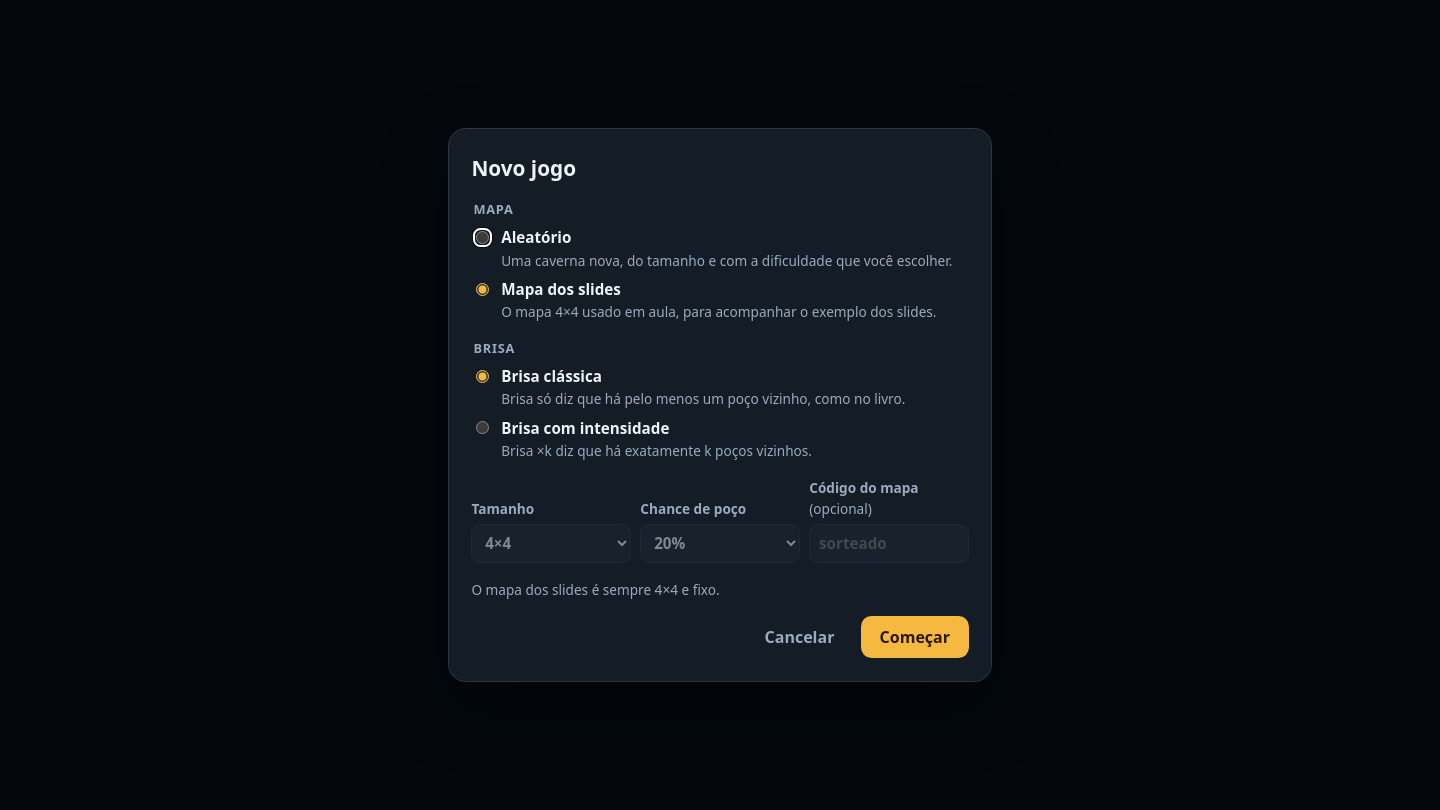
NewGameDialog › rejects an invalid seed without submitting
Step 1. Click the radio button labelled "Aleatório" → (483, 237), box x1=476 y1=231 x2=489 y2=244
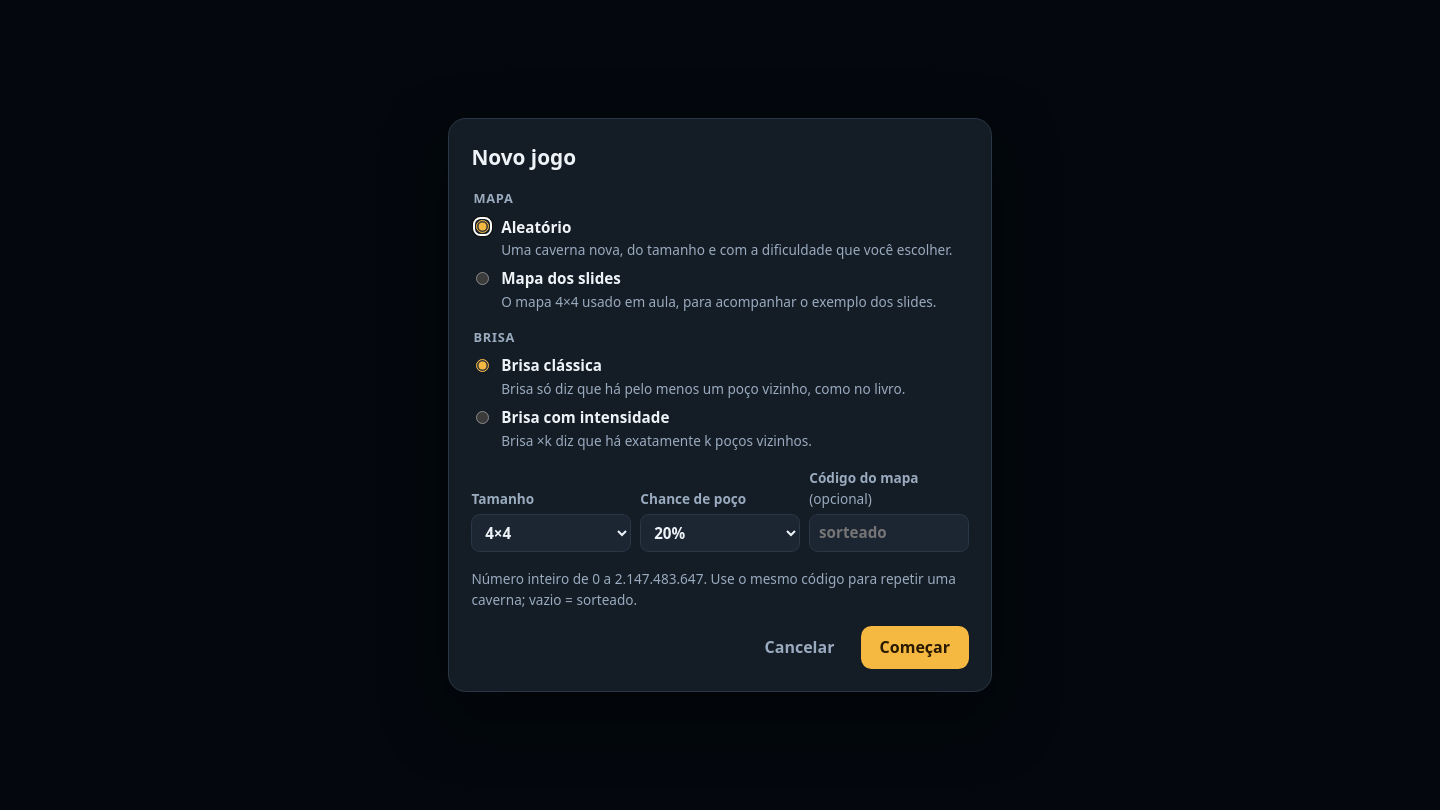
Step 2. Type "-3" into the field labelled "Código do mapa (opcional)" → (889, 533), box x1=809 y1=514 x2=969 y2=552
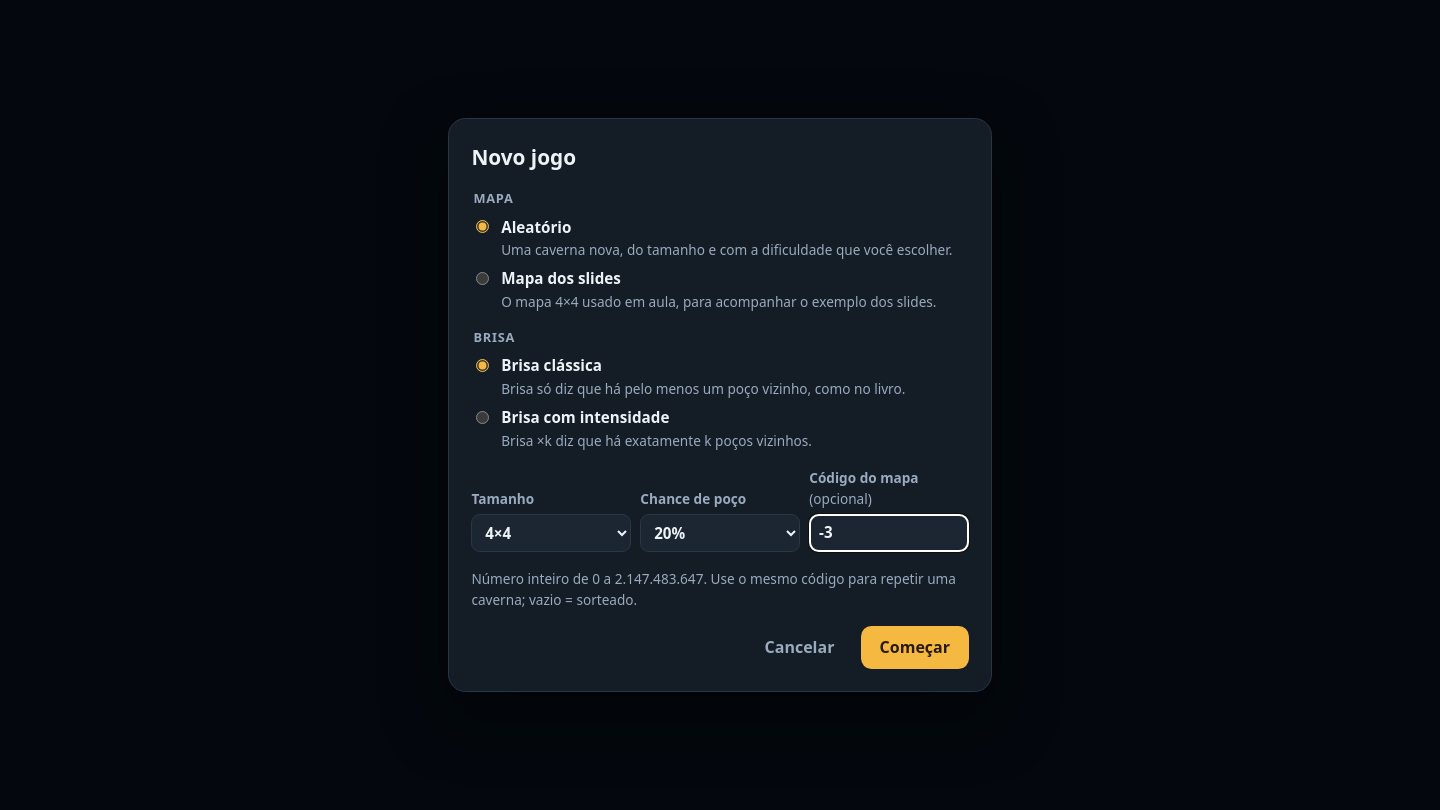
Step 3. Click the button "Começar" → (915, 648), box x1=861 y1=626 x2=969 y2=669
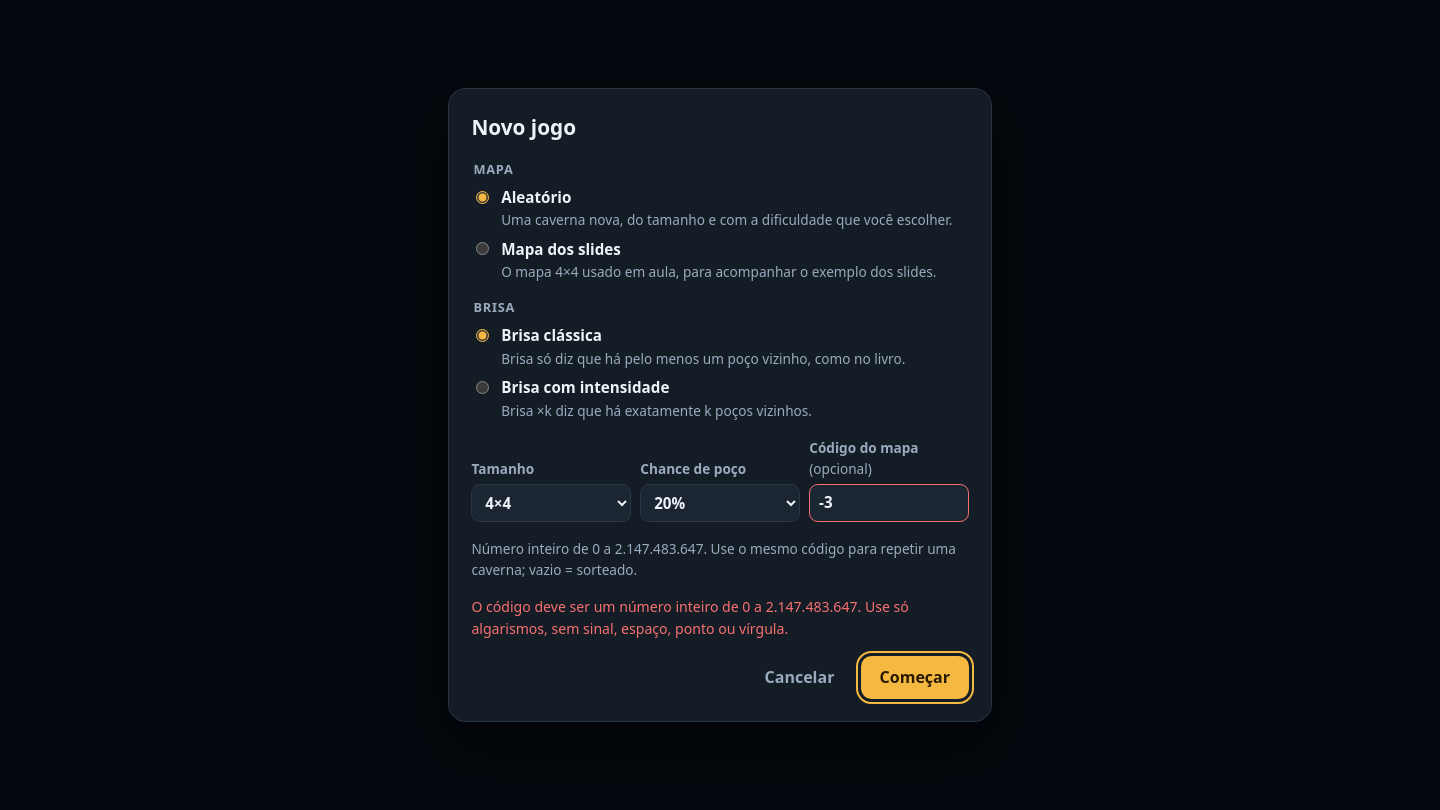
Now the message shows "número inteiro", box x1=471 y1=597 x2=909 y2=638
